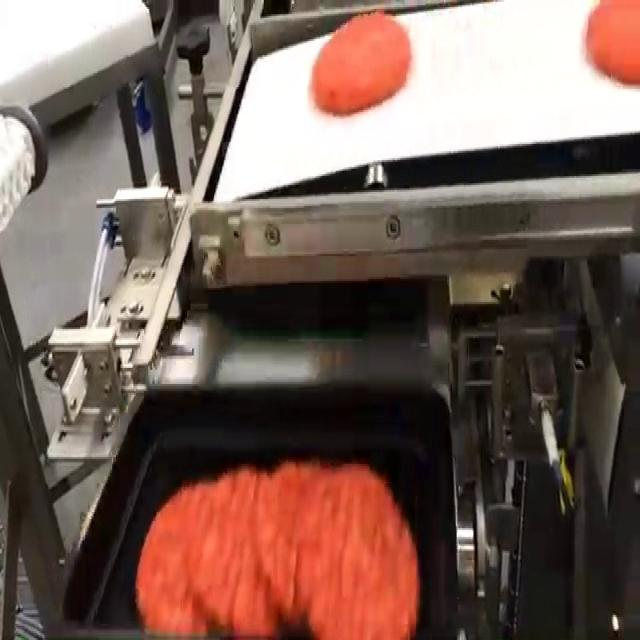4-hamburguer: (136, 462, 420, 638)
